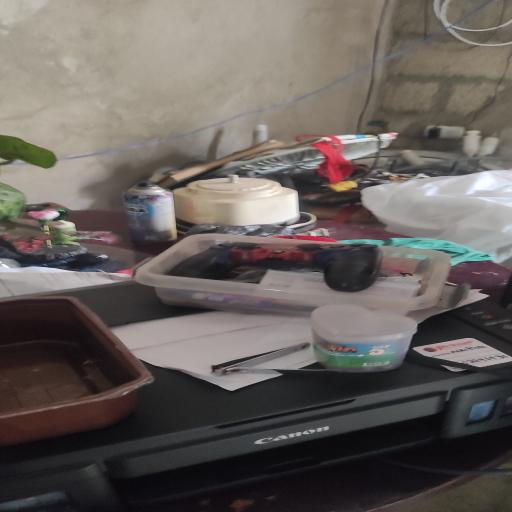ControlPlay4: (168, 239, 383, 293)
